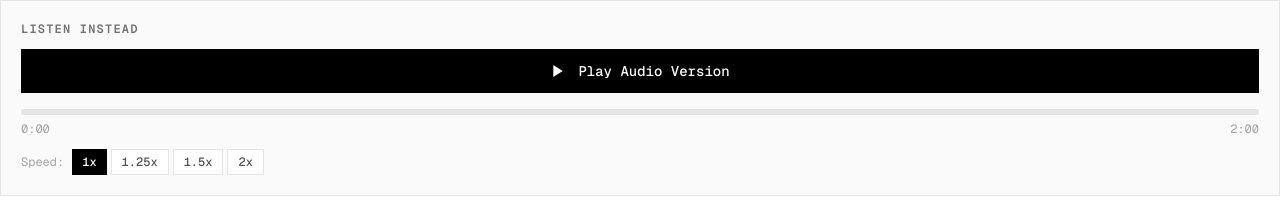
Test: AudioPlayer › shows Pause text after playing
This screenshot has width=1280, height=213.
Step 1. Click the button "Play Audio Version" → x=640, y=71, box [21,49,1259,93]
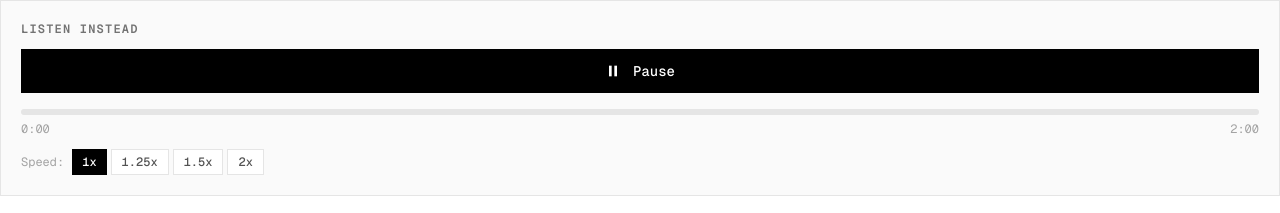
Expected: the button "Pause" is shown, [21,49,1259,93]
